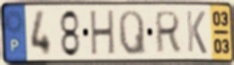4: (28, 8, 55, 58)
8: (57, 7, 82, 60)
H: (90, 8, 116, 58)
K: (185, 8, 209, 56)
Q: (117, 8, 149, 57)
R: (154, 9, 182, 55)
